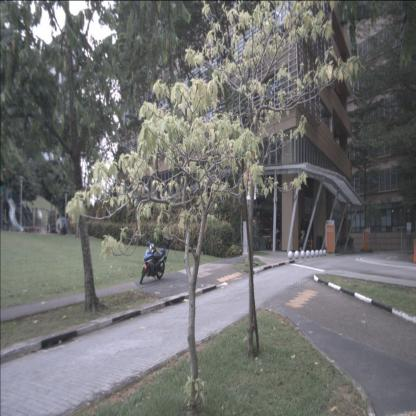cone: (412, 245, 416, 264)
